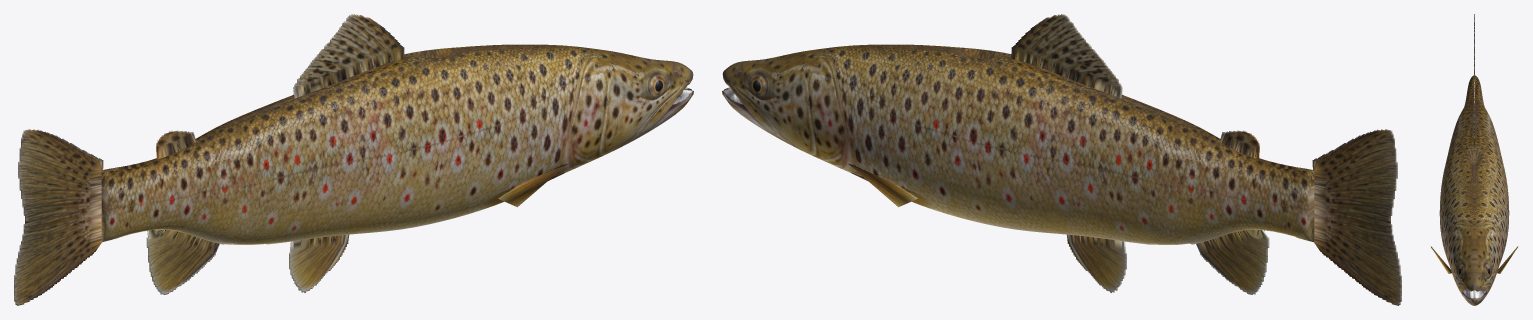
Rendered from brown_trout.glb.
The picture shows the model from 3 angles, left to right: view 1: azimuth 30°, elevation 25°; view 2: azimuth 150°, elevation 25°; view 3: azimuth 270°, elevation 25°; orthographic projection. The views are drawn at different scales.
Parts seen in each view (by area): view 1: brown_trout_realistic.003; view 2: brown_trout_realistic.003; view 3: brown_trout_realistic.003.
Boxes of the visible parts, x1=… form: brown_trout_realistic.003: x1=14, y1=14, x2=693, y2=305; brown_trout_realistic.003: x1=722, y1=14, x2=1401, y2=305; brown_trout_realistic.003: x1=1430, y1=14, x2=1518, y2=305.
Size of the model in its own units: 1 by 0.3751 by 0.1762.
3 materials, 3 textured.
